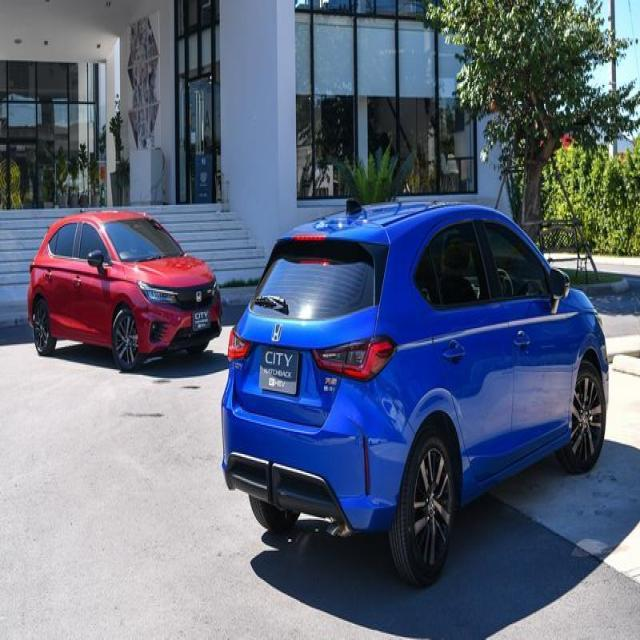Hatchback: (221, 201, 612, 590)
